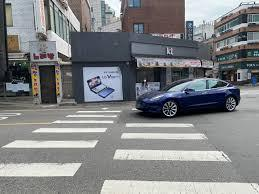crosswalk: (0, 109, 259, 194)
